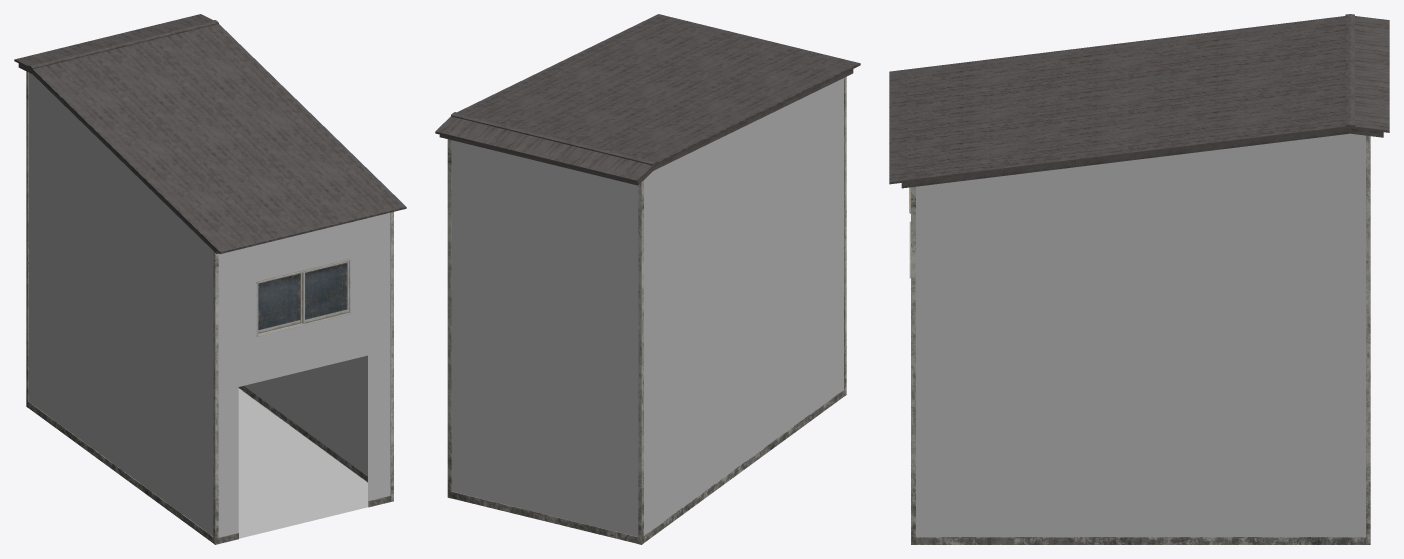
The model's file is House_C.fbx.
3 renders of one model, left to right at view 1: azimuth 30°, elevation 25°; view 2: azimuth 150°, elevation 25°; view 3: azimuth 270°, elevation 25°, orthographic. The views are drawn at different scales.
Visible parts, largest first — view 1: House_C; view 2: House_C; view 3: House_C.
Part boxes in pixels (x1,y1,x2,y2): House_C: [14, 14, 406, 544]; House_C: [435, 14, 860, 544]; House_C: [889, 14, 1389, 544].
Bounding box in the file's own units: 321 × 572 × 614.
